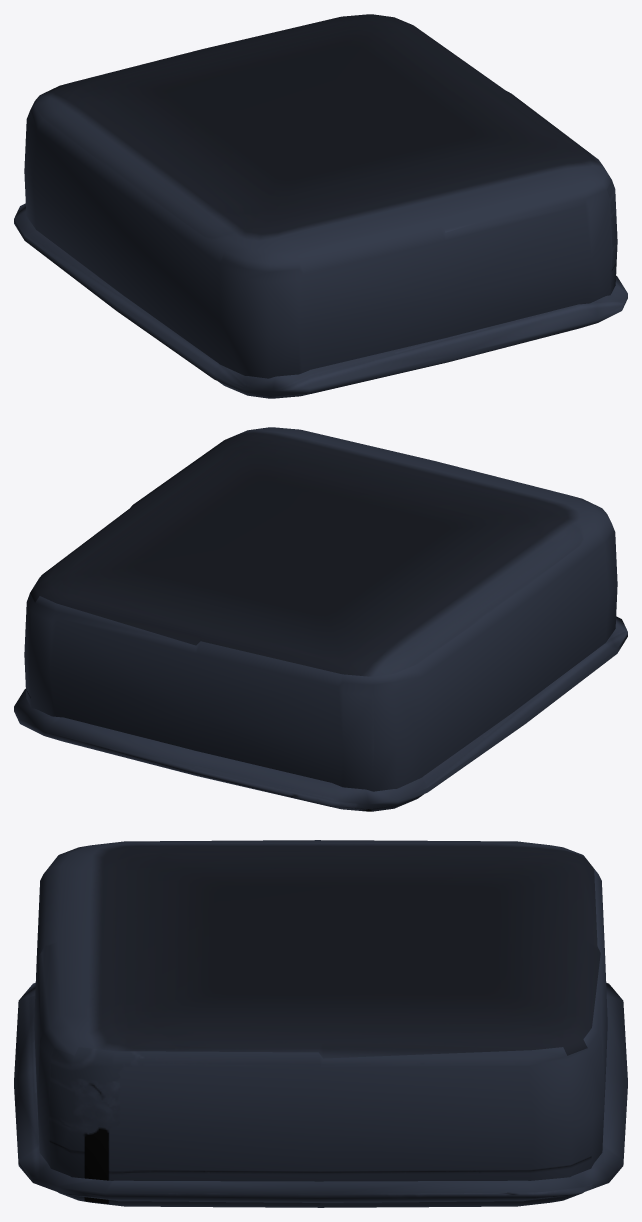
The model's file is Remache_BotaDer.fbx.
3 views of the same model, one above another, from view 1: azimuth 30°, elevation 25°; view 2: azimuth 150°, elevation 25°; view 3: azimuth 270°, elevation 25° (orthographic). The views are drawn at different scales.
Visible parts, largest first — view 1: Remache_BotaDer; view 2: Remache_BotaDer; view 3: Remache_BotaDer.
Boxes of the visible parts, box(x1,y1,x2,y2) form: Remache_BotaDer: box(14, 14, 627, 398); Remache_BotaDer: box(14, 427, 627, 811); Remache_BotaDer: box(14, 840, 627, 1207).
Size of the model in its own units: 1.9 by 0.7135 by 2.17.
